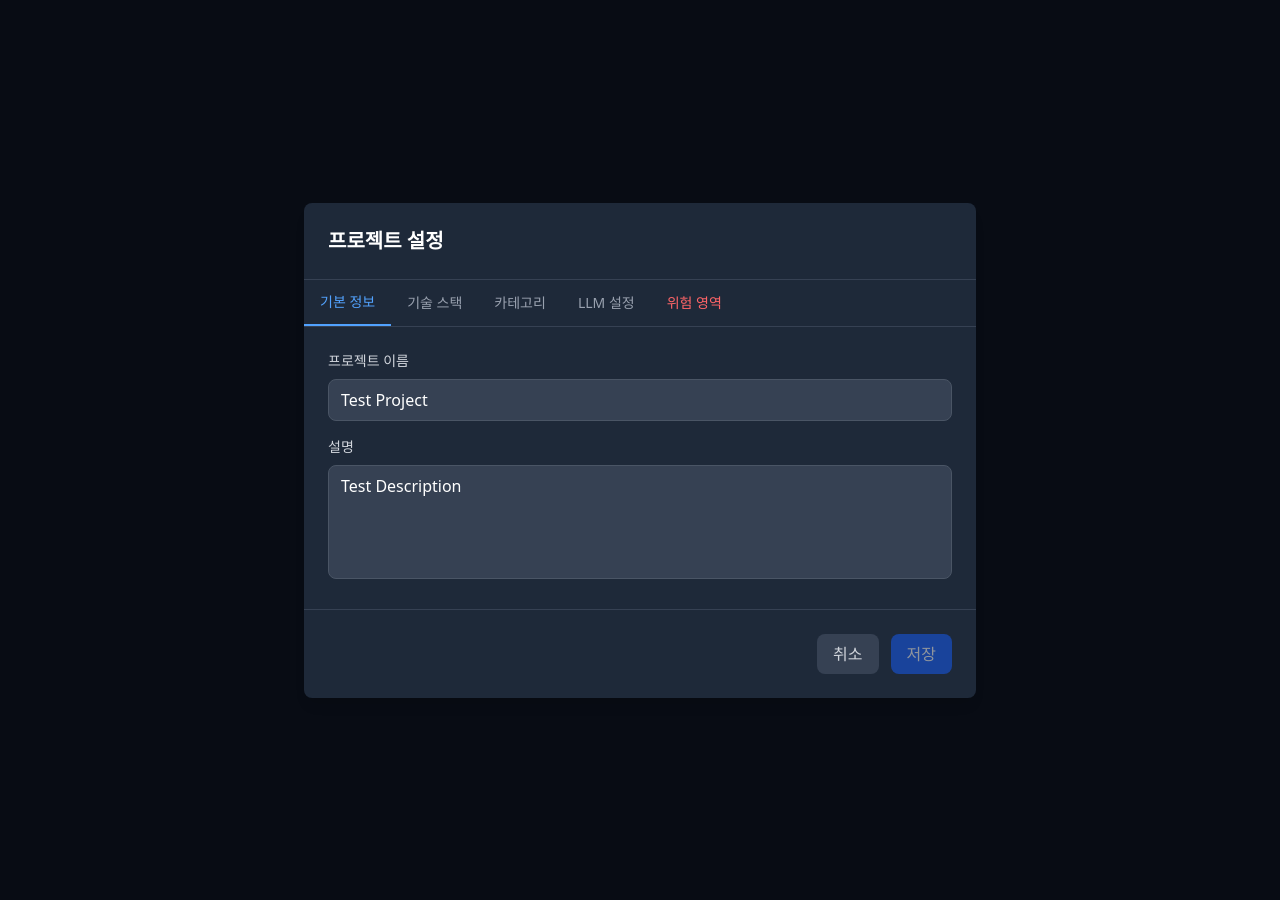
Test: ProjectSettingsModal › Categories Tab › should add category when using suggestion button
This screenshot has width=1280, height=900.
Click the tab "카테고리": (520, 302) [478,280,562,326]
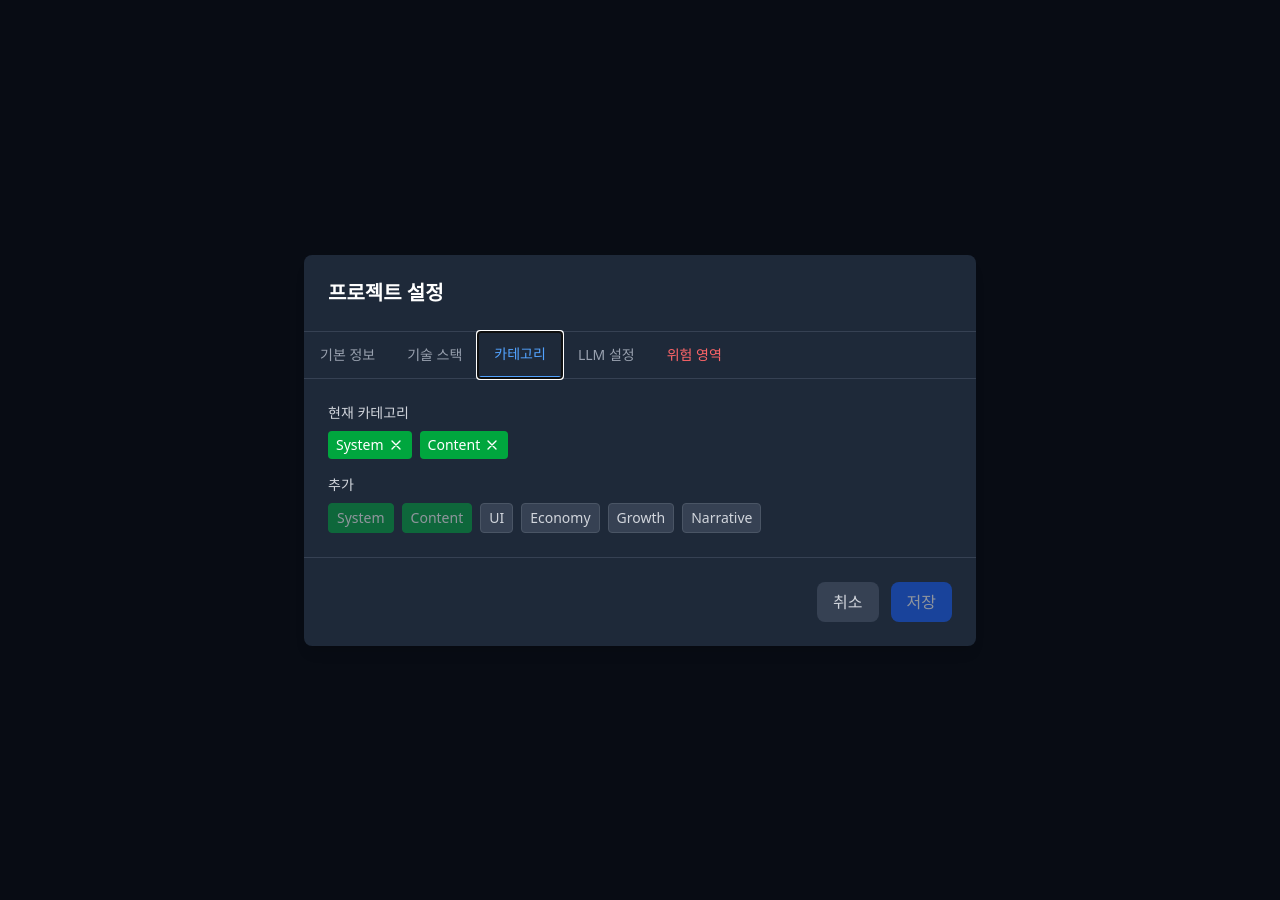
Click the button with aria-label "add UI": (497, 518) [480,502,513,532]
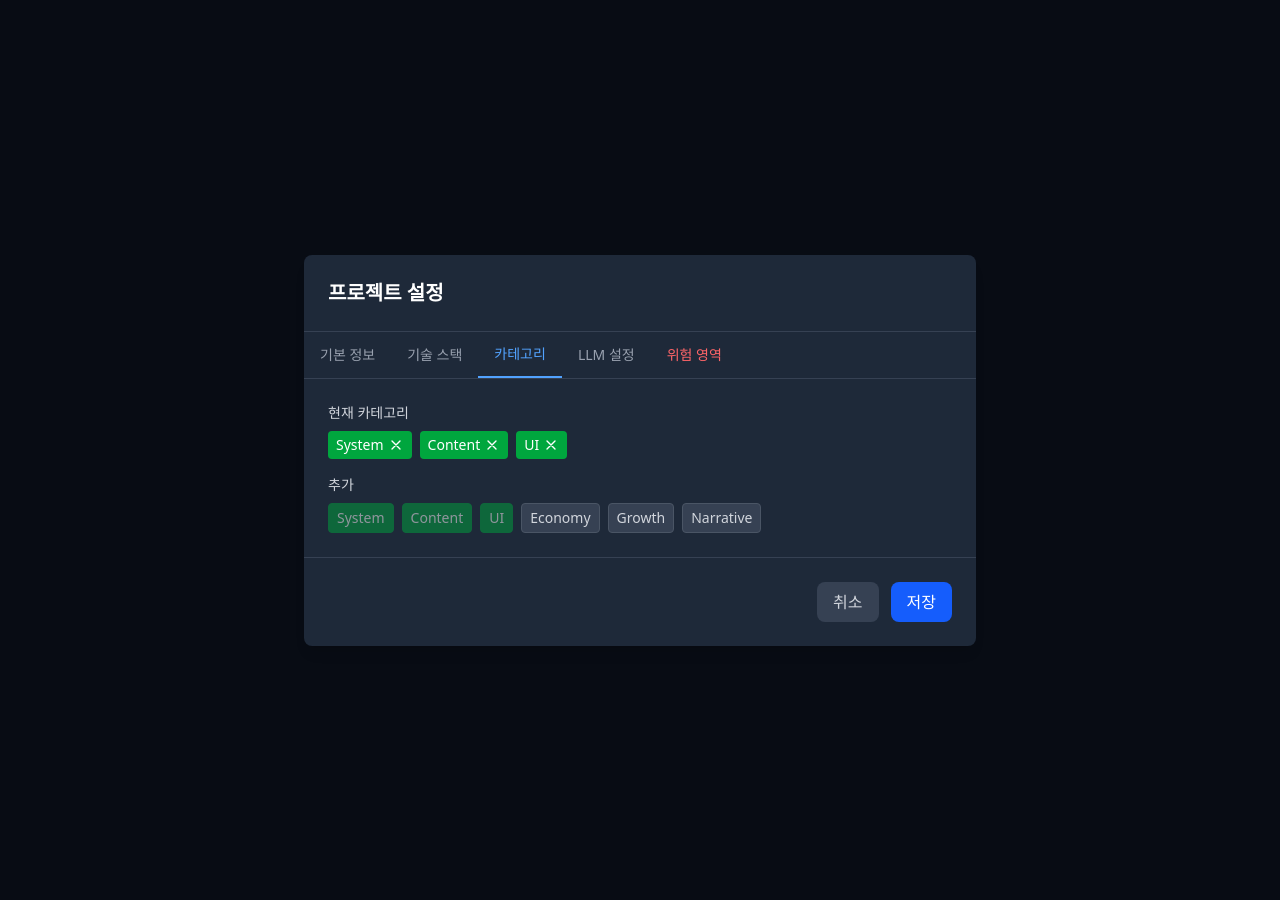
Check: the button named "remove UI" is shown, box [543,436,559,452]
